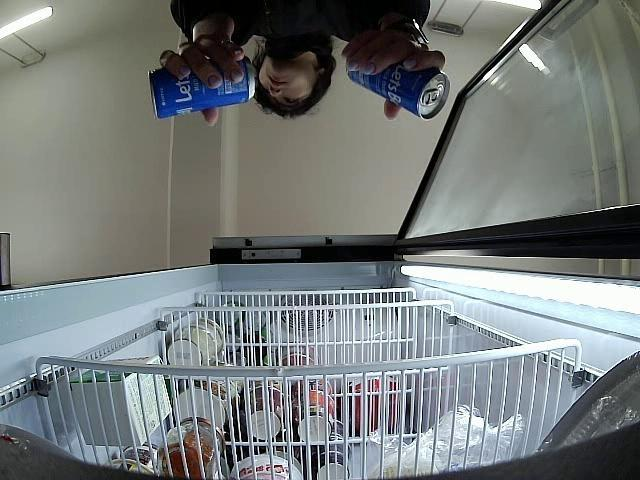15_letsbe: (148, 55, 256, 120), (348, 54, 450, 120)
